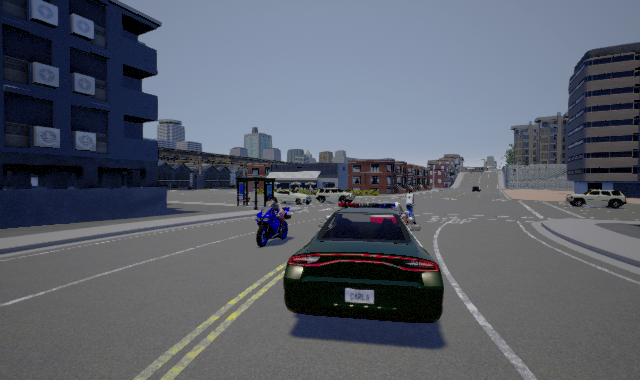bike: (404, 191, 418, 224)
motobike: (254, 205, 291, 246)
vehicle: (283, 204, 443, 323), (566, 189, 627, 209), (314, 186, 354, 204), (274, 190, 312, 205)
